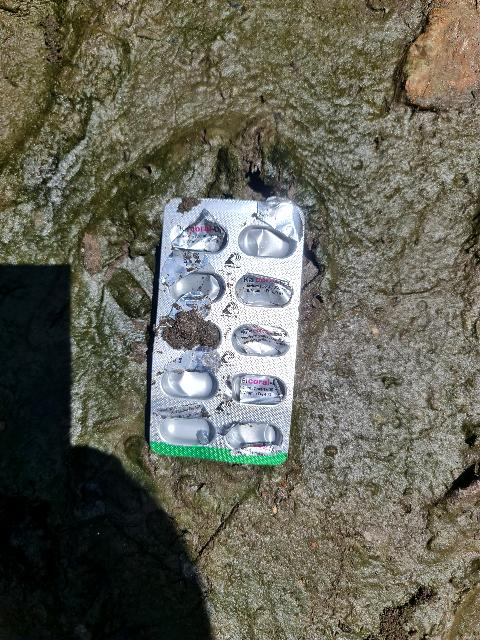medicine: (145, 180, 305, 492)
